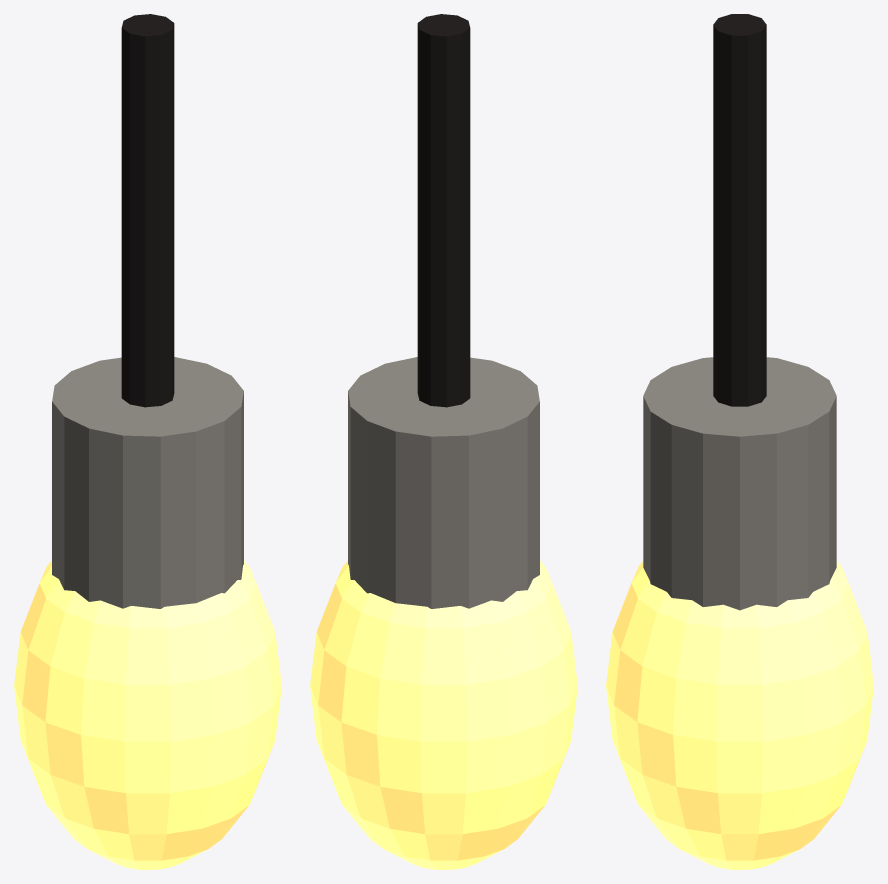
Rendered from basement-bare-bulb.glb.
The picture shows the model from 3 angles, left to right: view 1: azimuth 30°, elevation 25°; view 2: azimuth 150°, elevation 25°; view 3: azimuth 270°, elevation 25°; orthographic projection.
Parts seen in each view (by area): view 1: SM_Light_BulbGlass, SM_Light_BulbSocket, SM_Light_BulbCord; view 2: SM_Light_BulbGlass, SM_Light_BulbSocket, SM_Light_BulbCord; view 3: SM_Light_BulbGlass, SM_Light_BulbSocket, SM_Light_BulbCord.
Part boxes in pixels (left/top/right/bottom): SM_Light_BulbGlass: left=14, top=560, right=281, bottom=869; SM_Light_BulbSocket: left=52, top=357, right=243, bottom=608; SM_Light_BulbCord: left=121, top=14, right=174, bottom=407; SM_Light_BulbGlass: left=310, top=560, right=577, bottom=869; SM_Light_BulbSocket: left=348, top=357, right=539, bottom=608; SM_Light_BulbCord: left=417, top=14, right=470, bottom=407; SM_Light_BulbGlass: left=606, top=561, right=873, bottom=869; SM_Light_BulbSocket: left=643, top=357, right=836, bottom=610; SM_Light_BulbCord: left=713, top=14, right=766, bottom=406.
Size of the model in its own units: 0.1773 by 0.62 by 0.18.
